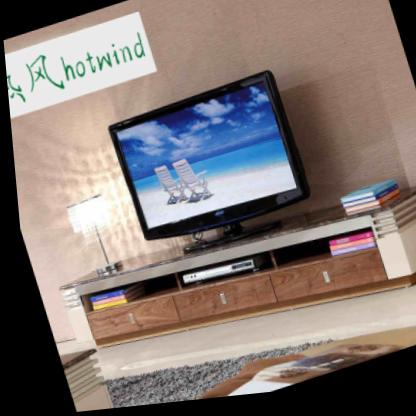TV stand: (53, 196, 416, 348)
